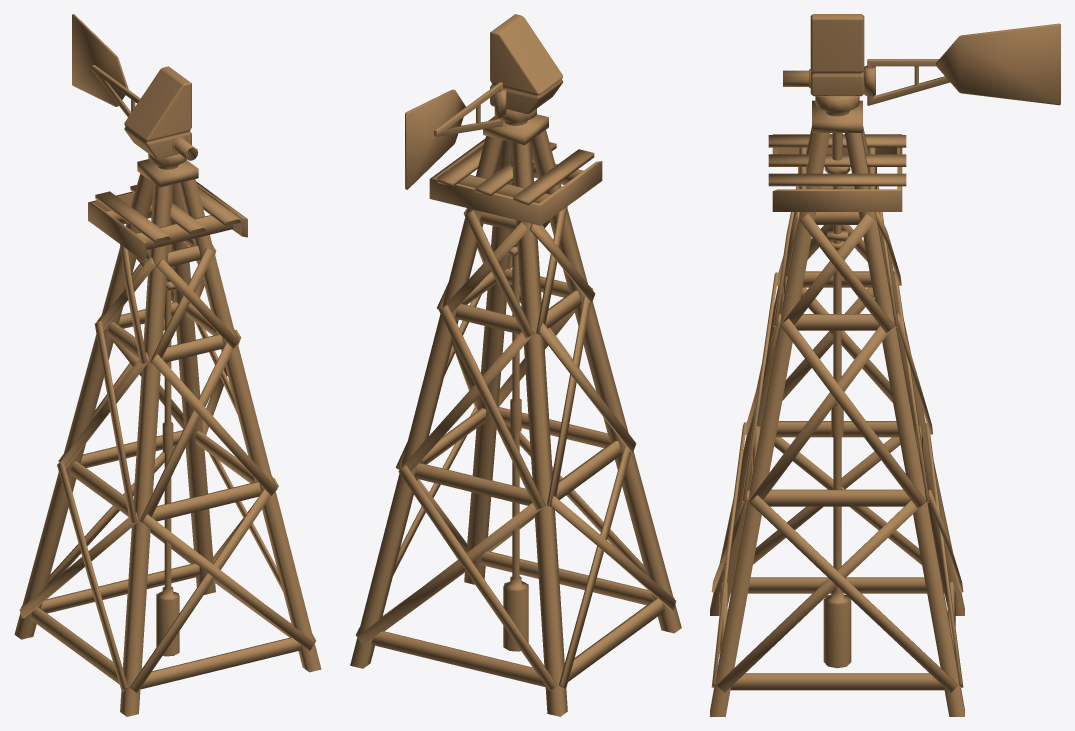
Rendered from windmill-tower.glb.
3 renders of one model, left to right at view 1: azimuth 30°, elevation 25°; view 2: azimuth 150°, elevation 25°; view 3: azimuth 270°, elevation 25°, orthographic. The views are drawn at different scales.
Visible parts, largest first — view 1: FtrWindmillRetro_node4; view 2: FtrWindmillRetro_node4; view 3: FtrWindmillRetro_node4.
Boxes of the visible parts, x1=… form: FtrWindmillRetro_node4: x1=14, y1=14, x2=321, y2=716; FtrWindmillRetro_node4: x1=350, y1=14, x2=681, y2=716; FtrWindmillRetro_node4: x1=710, y1=14, x2=1060, y2=716.
Size of the model in its own units: 10.79 by 30.48 by 14.87.
